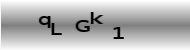1: (111, 25, 124, 39)
G: (75, 19, 90, 32)
L: (50, 22, 62, 36)
k: (90, 11, 103, 24)
q: (38, 15, 51, 28)
